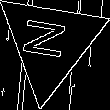N_E: (23, 19, 77, 67)
